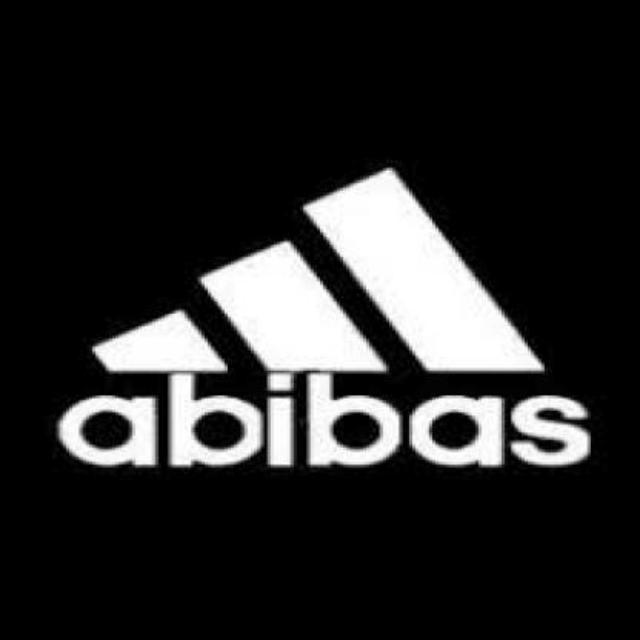ADIDAS_fake: (46, 373, 600, 487)
ADIDAS_original: (51, 138, 594, 374)
